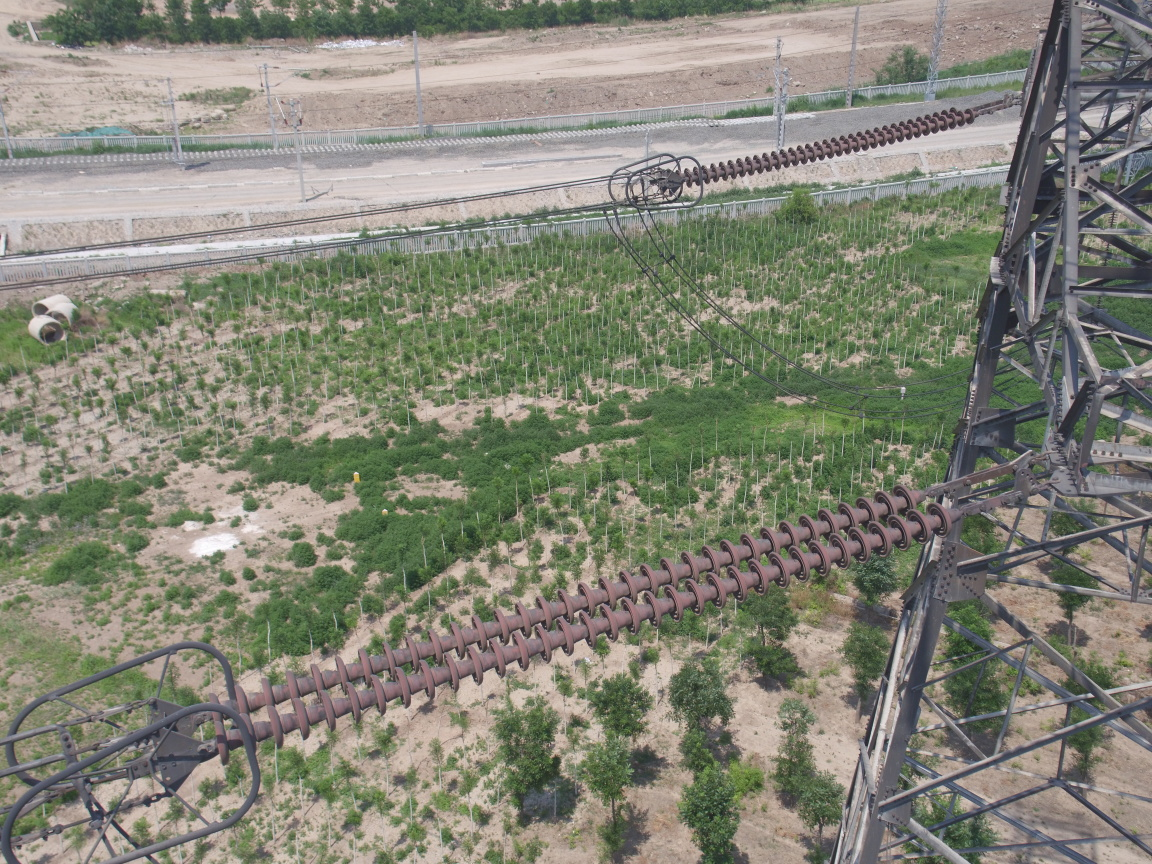insulator: (181, 477, 987, 768), (679, 103, 993, 190)
